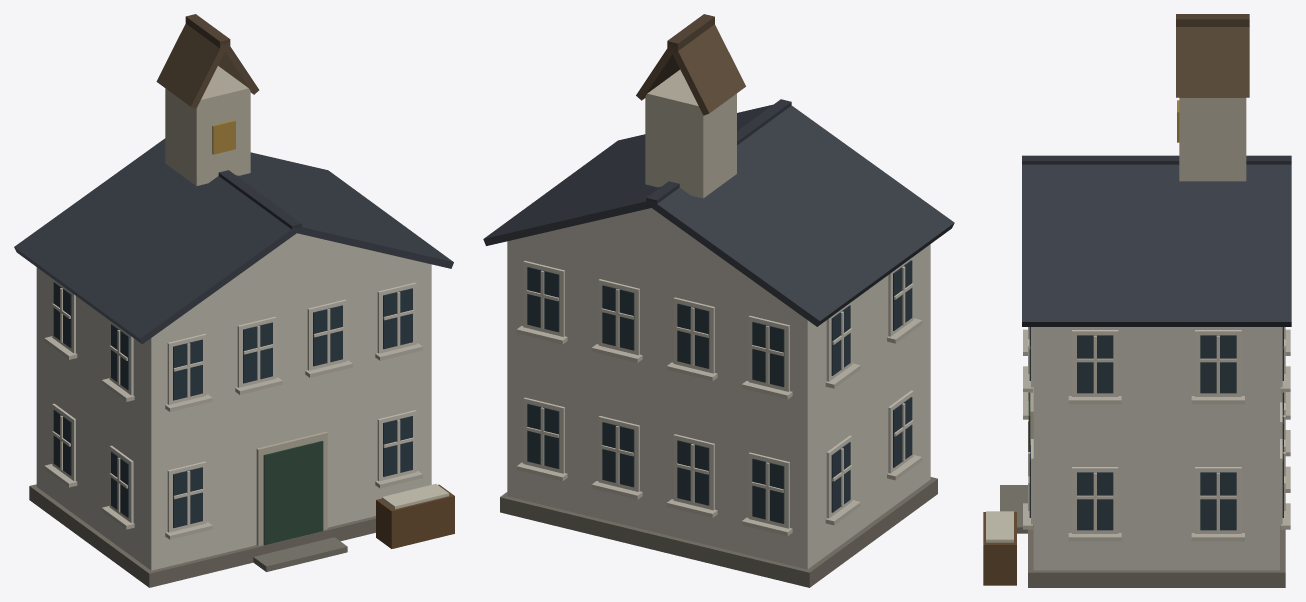
Rendered from procedural_study@5.glb.
3 views of the same model, side by side, from view 1: azimuth 30°, elevation 25°; view 2: azimuth 150°, elevation 25°; view 3: azimuth 270°, elevation 25° (orthographic). The views are drawn at different scales.
Visible parts, largest first — view 1: part_0; view 2: part_0; view 3: part_0.
Part boxes in pixels (x1,y1,x2,y2): part_0: [14, 14, 454, 587]; part_0: [483, 14, 954, 587]; part_0: [983, 14, 1291, 587].
Bounding box in the file's own units: 6.96 × 9.77 × 5.51.
